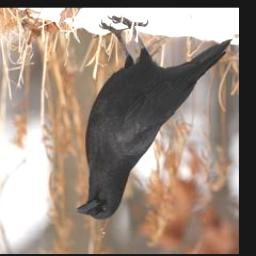Crow: (74, 14, 234, 225)
